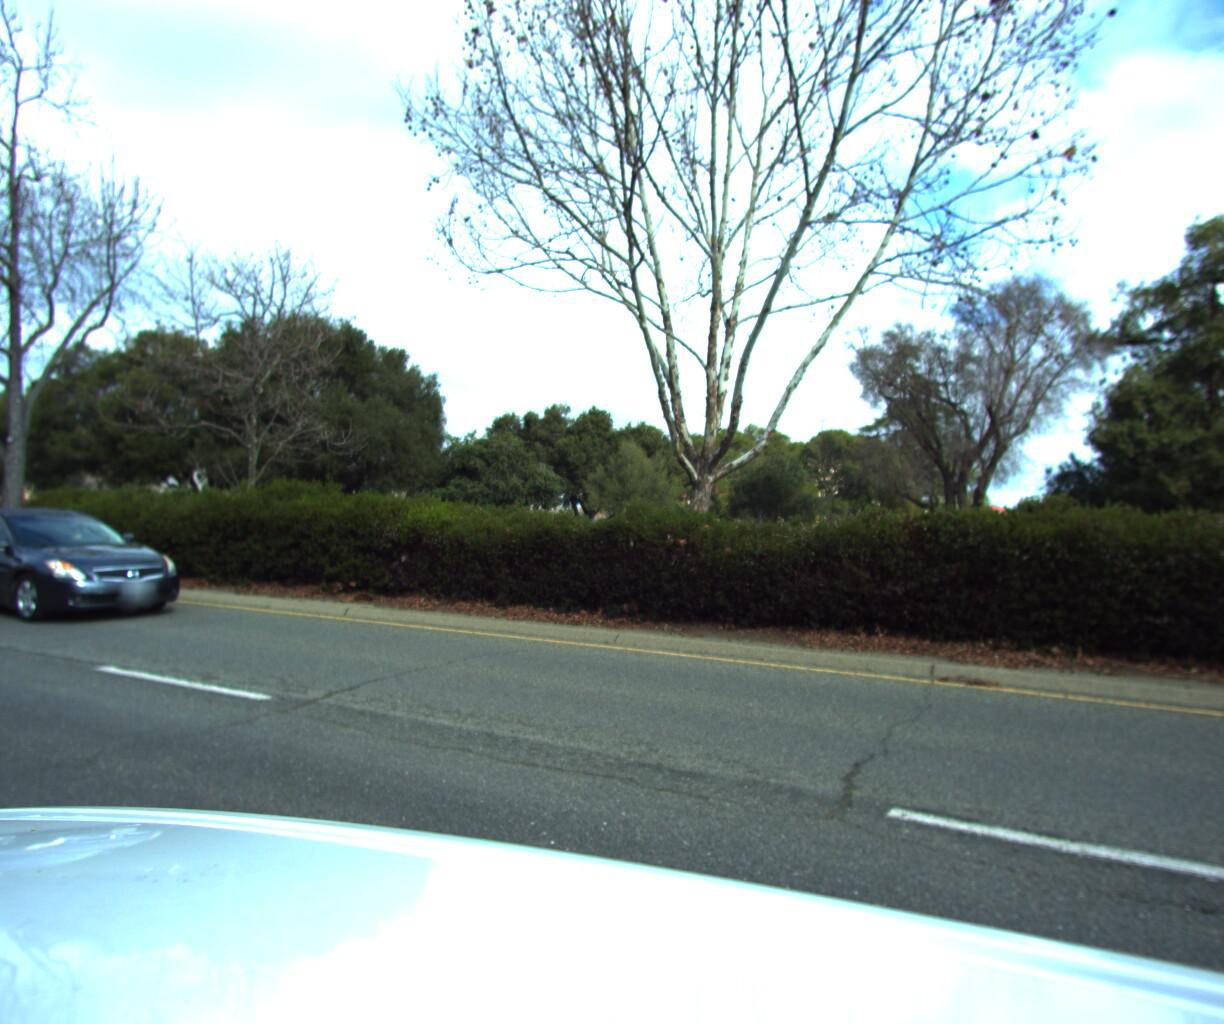car: (0, 502, 201, 631), (479, 509, 627, 568)
